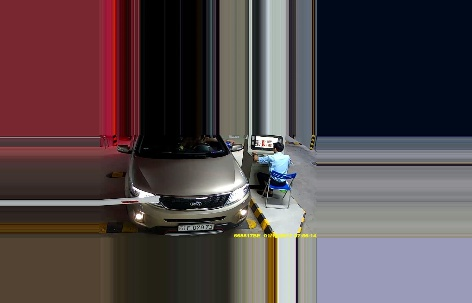plate: (177, 221, 214, 233)
